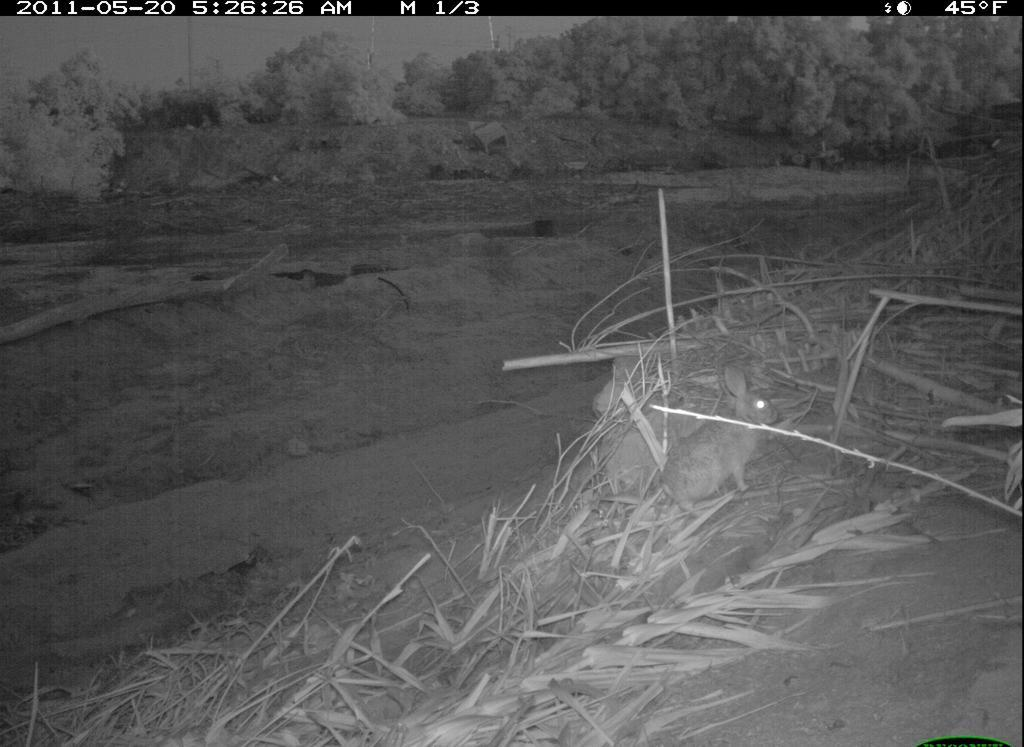rabbit: (652, 350, 790, 520)
